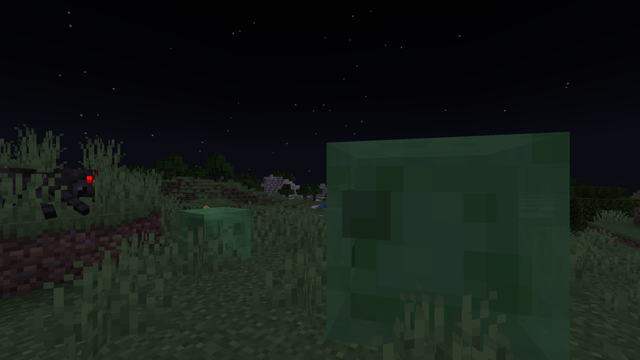araignees: (3, 161, 109, 220)
slimes: (310, 116, 553, 354), (175, 204, 251, 270)
